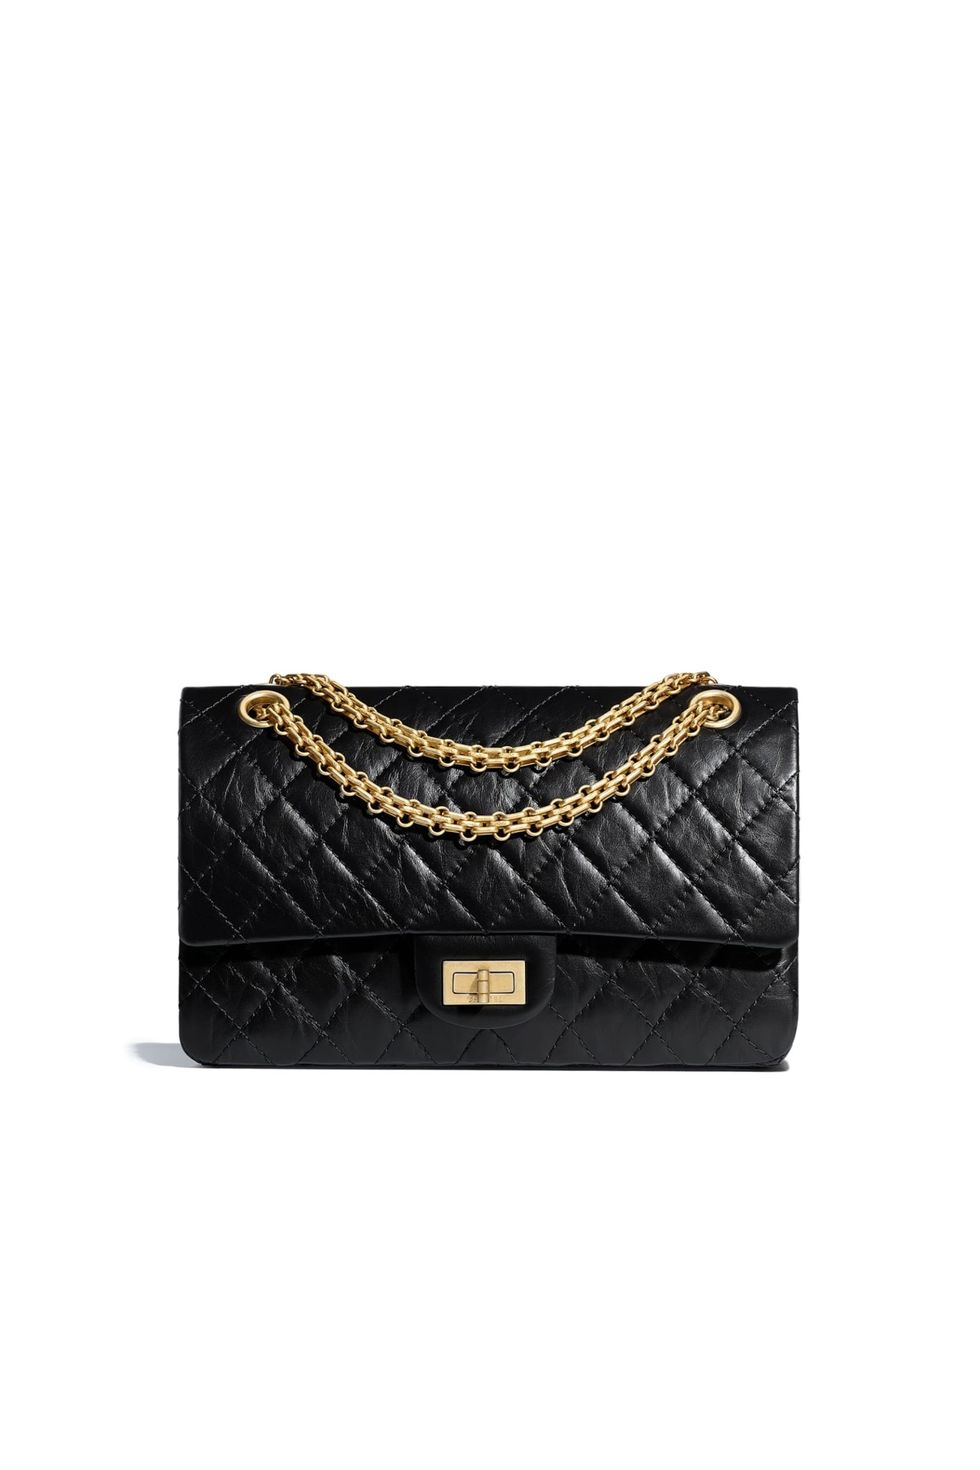cartera: (162, 650, 819, 1080)
cuero: (174, 675, 806, 1075)
